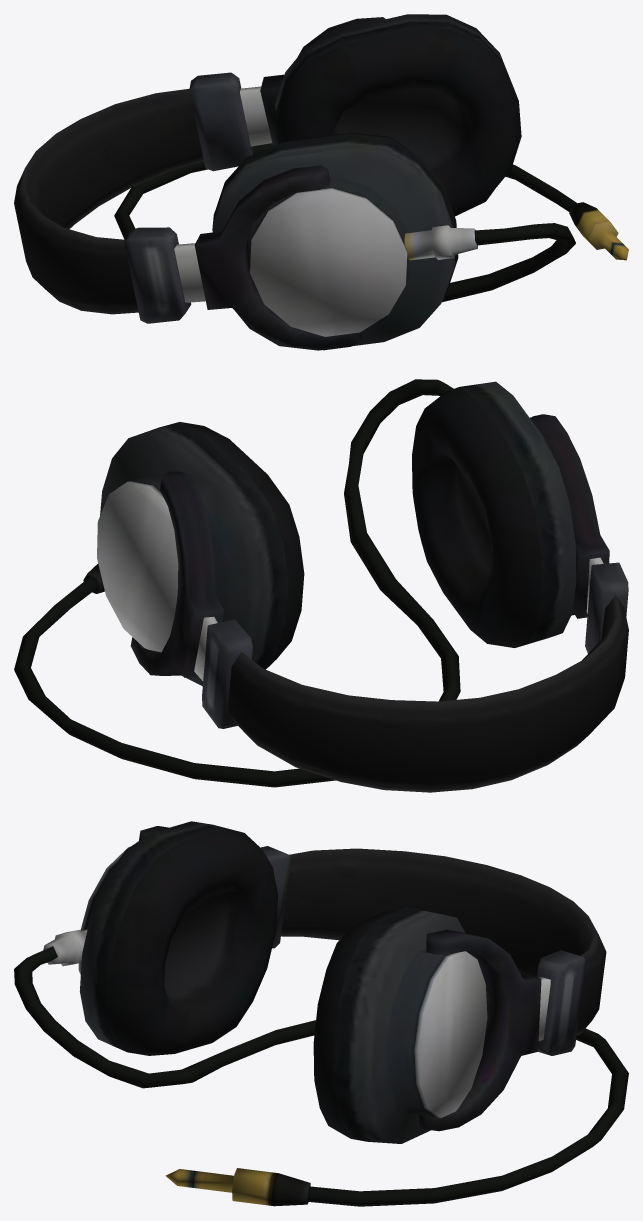
3 renders of one model, top to bottom at view 1: azimuth 30°, elevation 25°; view 2: azimuth 150°, elevation 25°; view 3: azimuth 270°, elevation 25°, orthographic. The views are drawn at different scales.
Size of the model in its own units: 8.3 by 3.17 by 8.21.
Materials: 1 (1 with a texture image).
